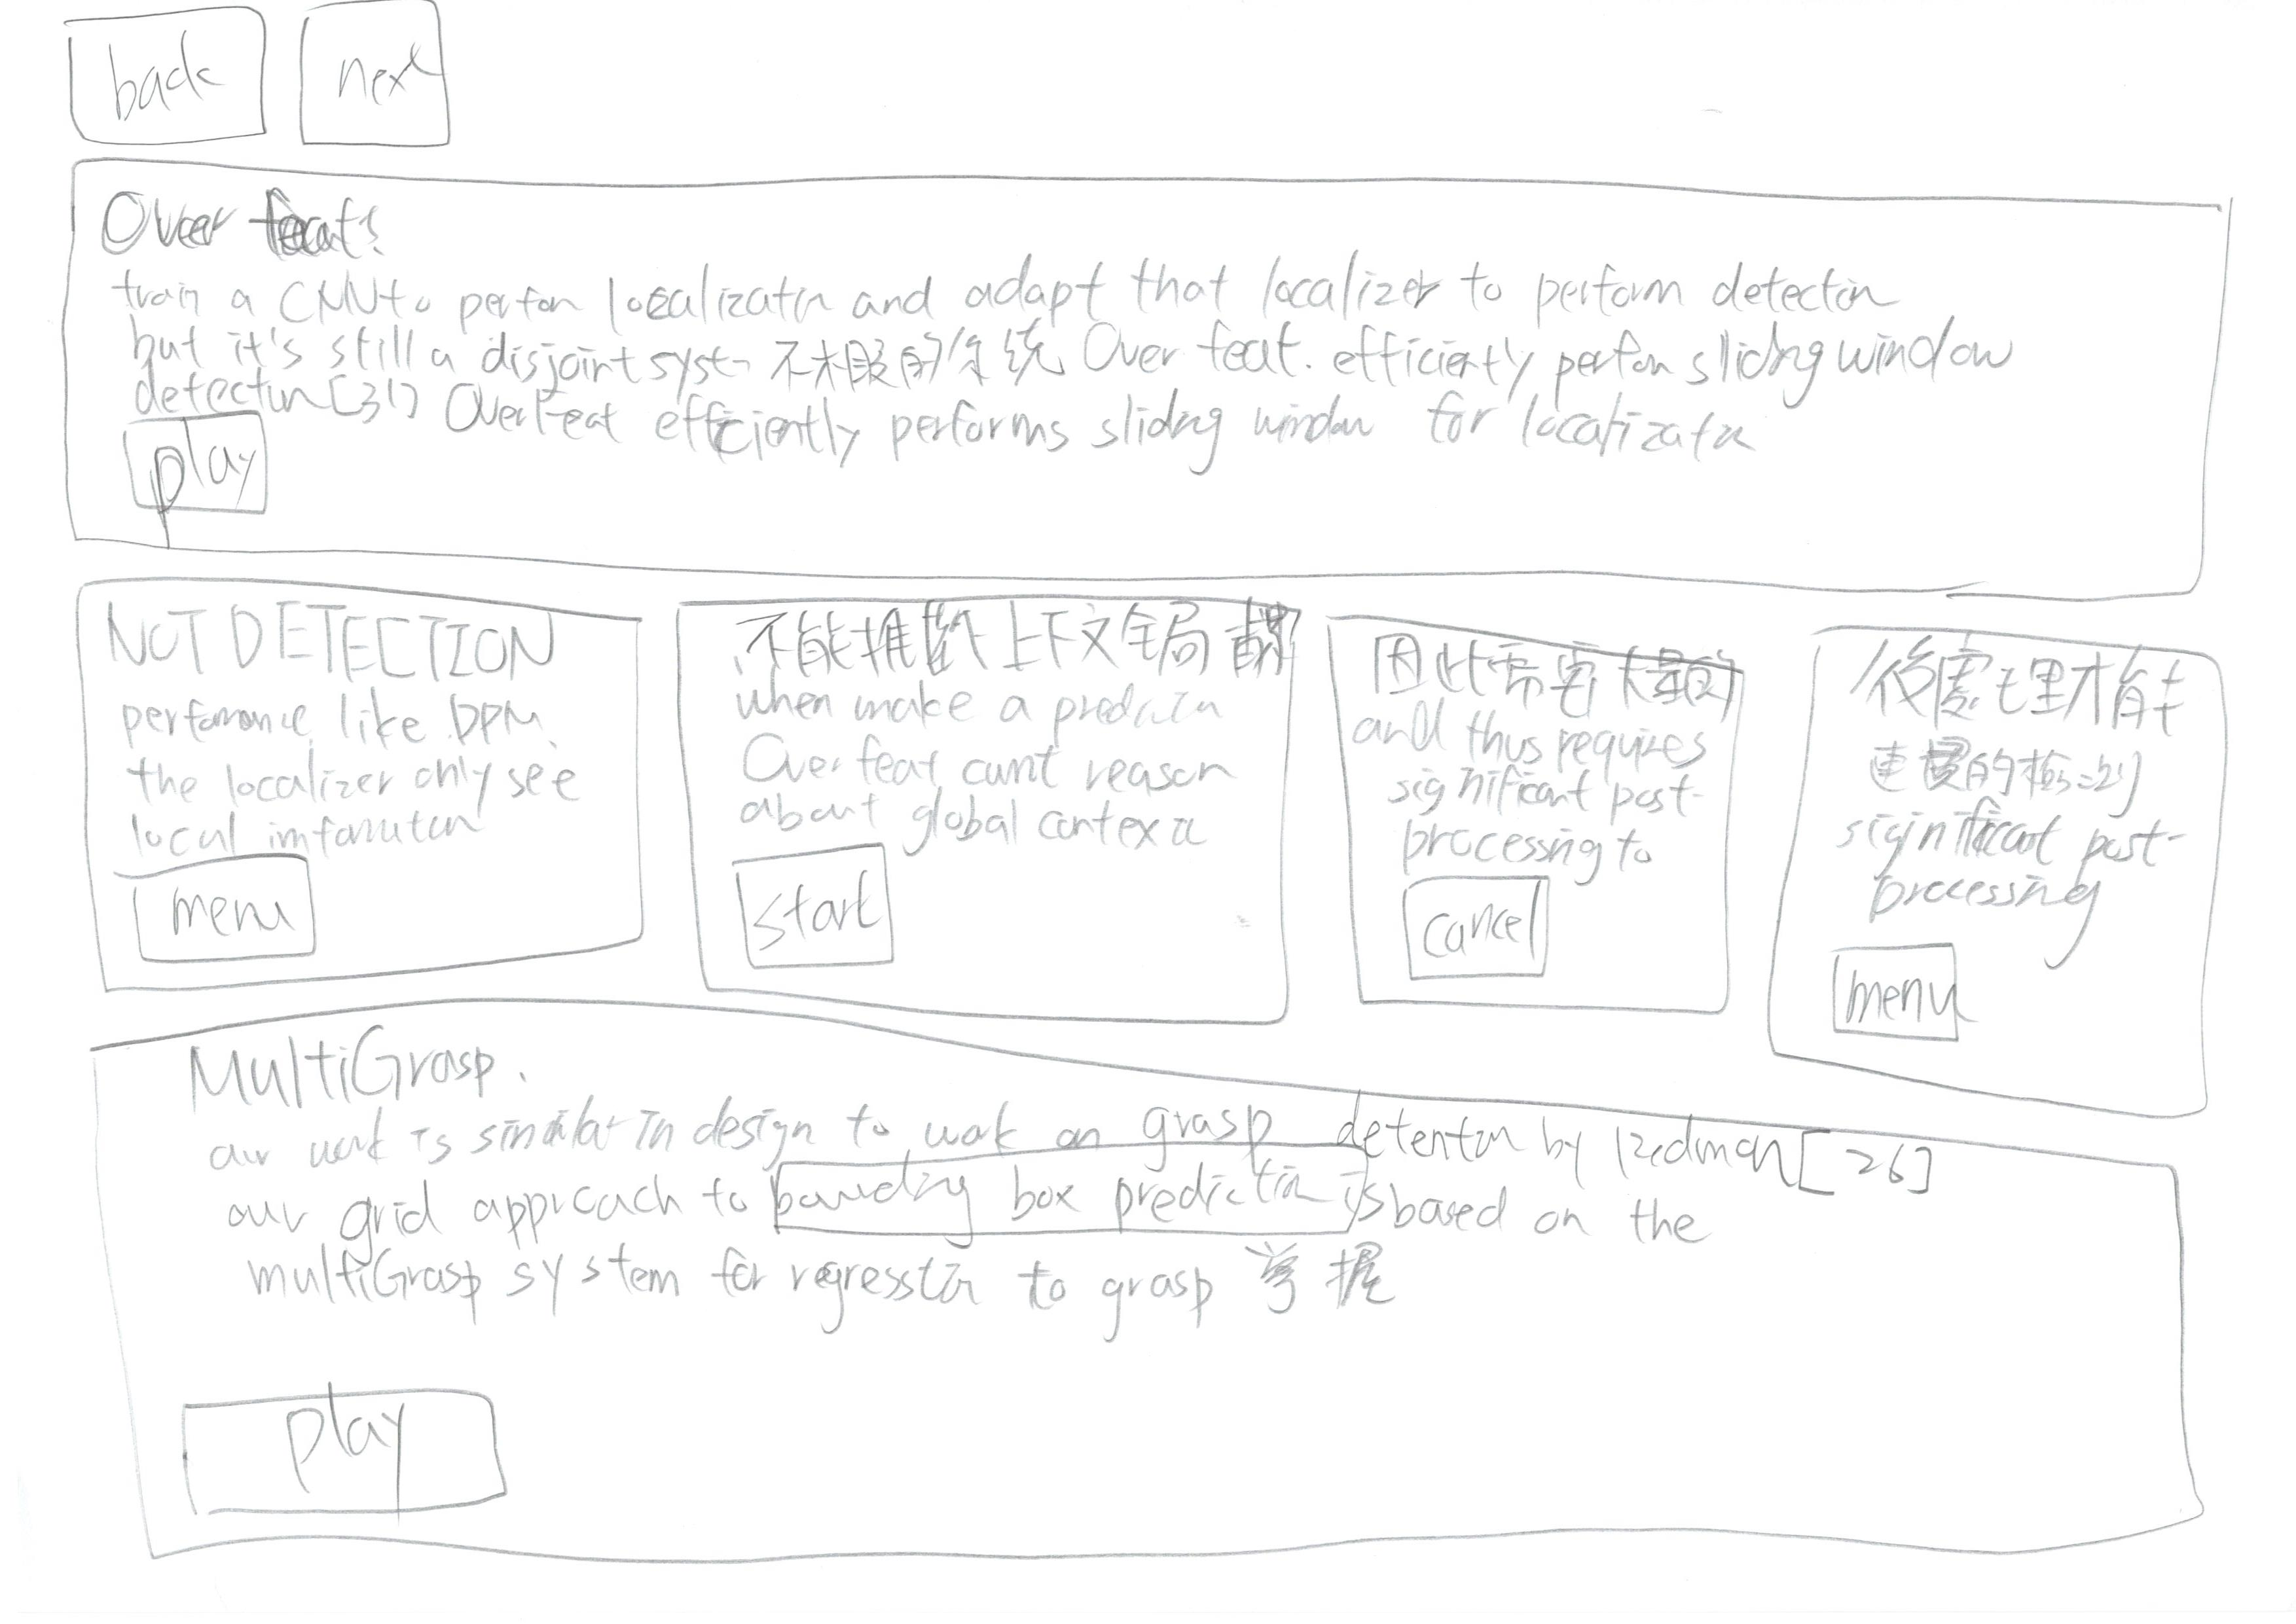back: (47, 0, 276, 156)
cancel: (1391, 865, 1572, 998)
menu: (111, 847, 346, 968), (1804, 928, 1976, 1069)
next: (301, 0, 462, 181)
play: (163, 1380, 552, 1520), (123, 395, 304, 538)
quadruple: (661, 564, 1350, 1065), (1751, 587, 2296, 1142), (49, 552, 670, 1021), (1310, 573, 1747, 1095)
row: (12, 543, 2296, 1144), (23, 1000, 2296, 1599), (33, 146, 2296, 631), (9, 0, 2296, 192)
single: (26, 993, 2296, 1608), (49, 139, 2273, 624)
small-title: (72, 591, 605, 700), (1864, 636, 2187, 791), (723, 615, 1290, 694), (91, 179, 396, 285), (1361, 636, 1730, 708), (183, 1037, 540, 1100)
start: (712, 830, 914, 1005)
text: (97, 253, 2020, 462), (232, 1114, 1967, 1343), (728, 684, 1229, 849), (127, 694, 594, 849), (1347, 696, 1704, 886), (1837, 777, 2175, 942)
